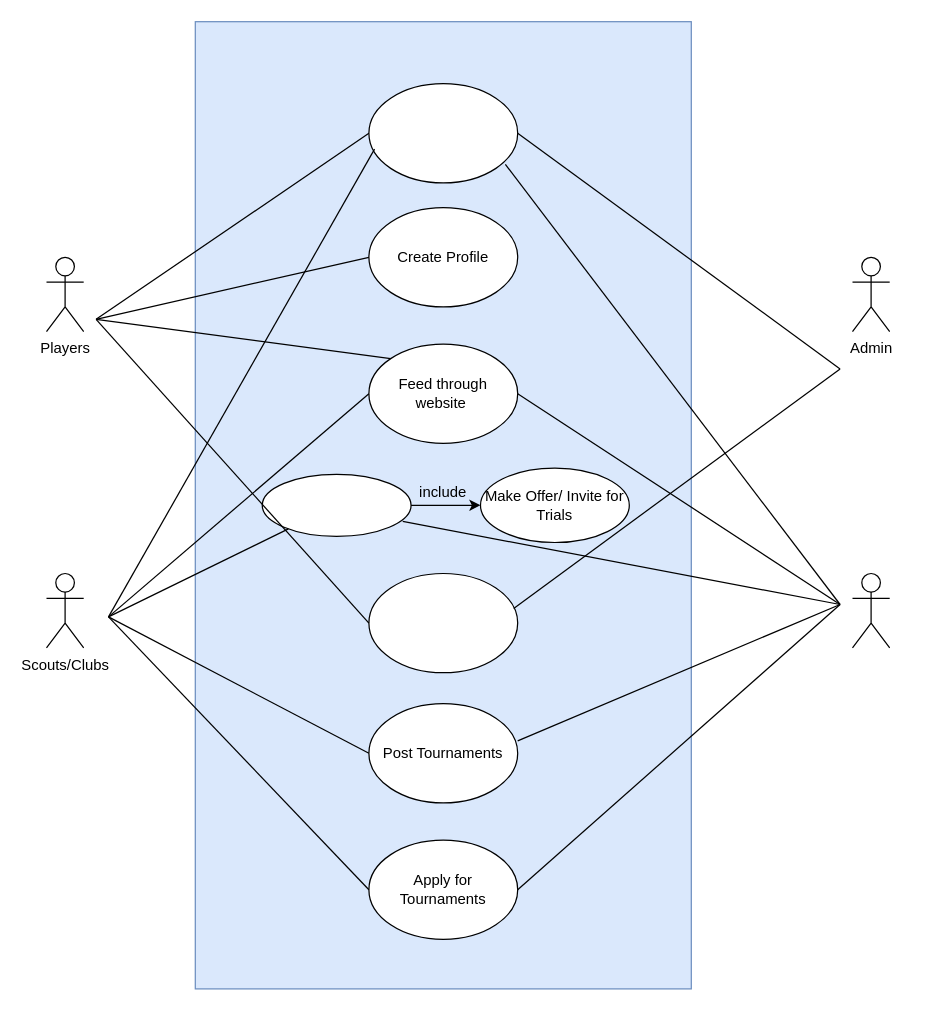
Image size: 929x1011. Some labels were removed from this diagram. Here are the shapes that lost their labels. From the top down, the centre of each, then its label:
At point 443,132: "Login/SignUp".
At point 336,504: "Search Players".
At point 443,622: "Apply to clubs and Academies".
At point 870,610: "Academies".
